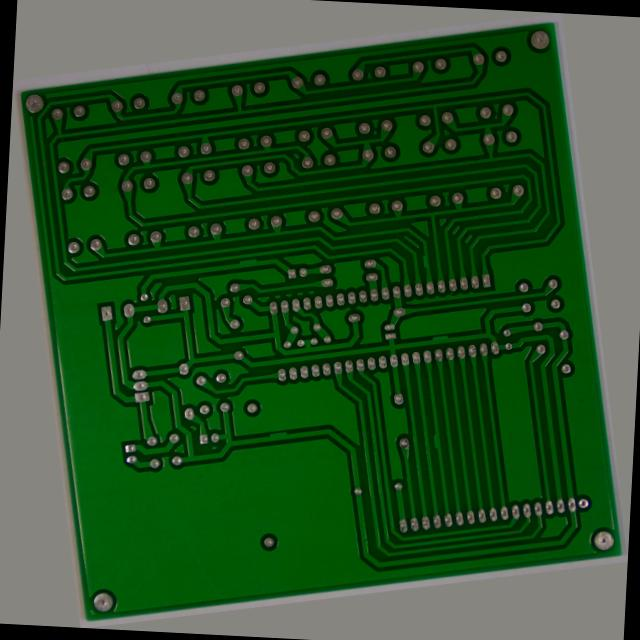spur: (418, 467, 437, 496), (233, 435, 264, 452), (437, 358, 467, 374), (234, 232, 264, 247), (443, 263, 457, 285)
